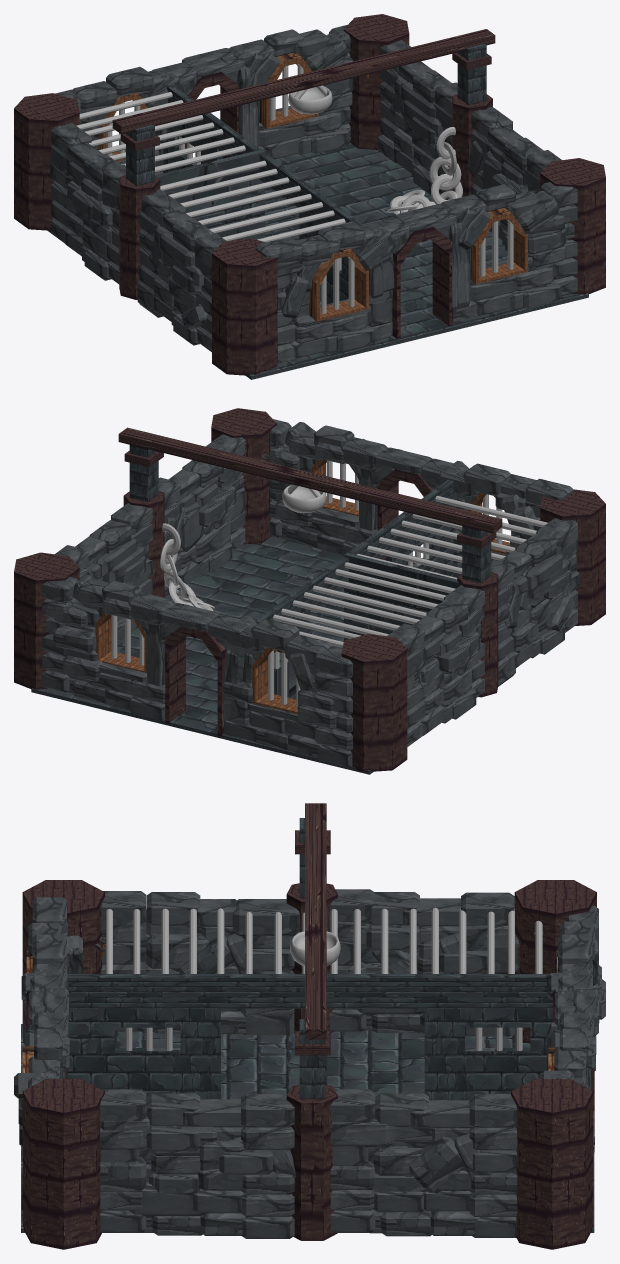
File: room_zombie.fbx
3 renders of one model, top to bottom at view 1: azimuth 30°, elevation 25°; view 2: azimuth 150°, elevation 25°; view 3: azimuth 270°, elevation 25°, orthographic. The views are drawn at different scales.
Parts seen in each view (by area): view 1: pasted__pasted__pCylinder8; view 2: pasted__pasted__pCylinder8; view 3: pasted__pasted__pCylinder8.
Boxes of the visible parts, bbox=[...] form: pasted__pasted__pCylinder8: bbox=[14, 14, 605, 379]; pasted__pasted__pCylinder8: bbox=[14, 408, 605, 774]; pasted__pasted__pCylinder8: bbox=[14, 803, 605, 1249].
Size of the model in its own units: 0.2097 by 0.0921 by 0.2246.
10 materials, 8 textured.
